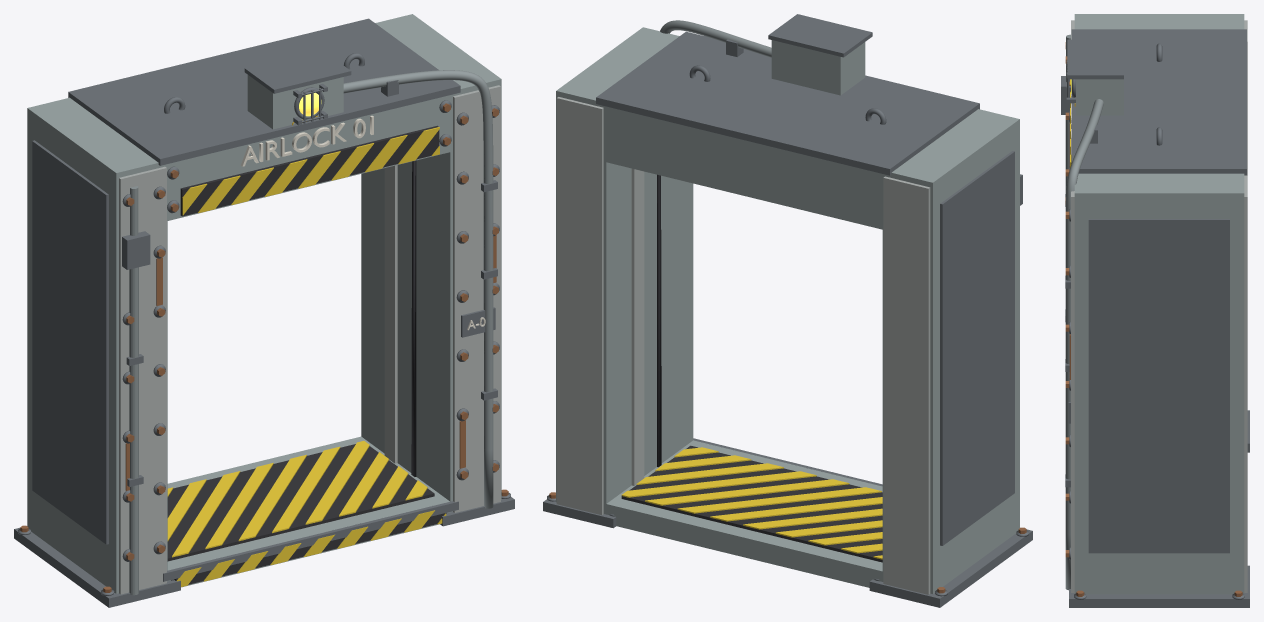
The model's file is airlock-entrance-frame-grouped.glb.
3 renders of one model, left to right at view 1: azimuth 30°, elevation 25°; view 2: azimuth 150°, elevation 25°; view 3: azimuth 270°, elevation 25°, orthographic. The views are drawn at different scales.
Parts seen in each view (by area): view 1: Jambs_Group, Header_Group, Hazard_Group, Conduits_Group, Threshold_Group, Lamp_Group, Seal_Group, StaticBody; view 2: Jambs_Group, Header_Group, Hazard_Group, Threshold_Group, Lamp_Group, Seal_Group, Conduits_Group; view 3: Jambs_Group, Header_Group, Lamp_Group, Conduits_Group, StaticBody.
Boxes of the visible parts, box(x1,y1,x2,y2) form: Jambs_Group: box(14, 14, 514, 607); Header_Group: box(68, 18, 460, 220); Hazard_Group: box(167, 125, 446, 586); Conduits_Group: box(122, 70, 497, 595); Threshold_Group: box(163, 436, 458, 587); Lamp_Group: box(244, 49, 351, 129); Seal_Group: box(384, 160, 416, 476); StaticBody: box(18, 100, 510, 595); Jambs_Group: box(543, 27, 1032, 607); Header_Group: box(596, 31, 979, 229); Hazard_Group: box(621, 445, 882, 562); Threshold_Group: box(606, 438, 883, 587); Lamp_Group: box(768, 14, 872, 95); Seal_Group: box(631, 168, 661, 485); Conduits_Group: box(660, 20, 1022, 205); Jambs_Group: box(1069, 14, 1249, 607); Header_Group: box(1071, 29, 1246, 175); Lamp_Group: box(1066, 39, 1123, 115); Conduits_Group: box(1061, 34, 1103, 590); StaticBody: box(1065, 42, 1244, 599).
Bounding box in the file's own units: 1.79 × 2 × 0.75.
